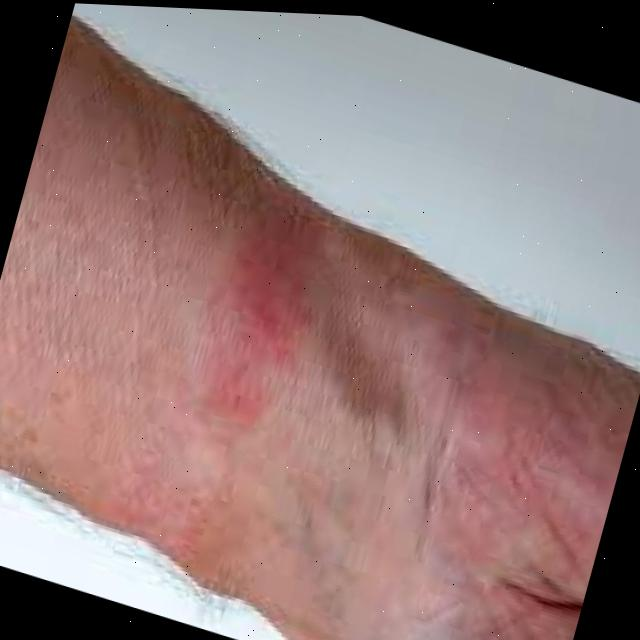Eczema: (180, 172, 337, 425)
